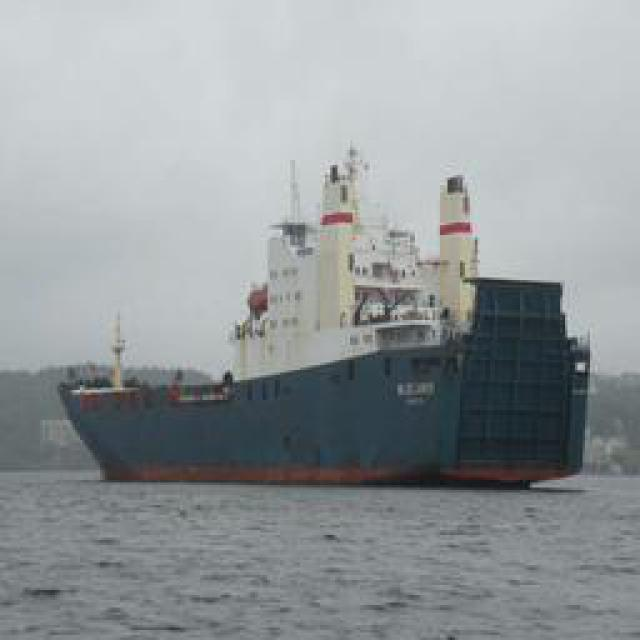Ship: (60, 126, 604, 490)
